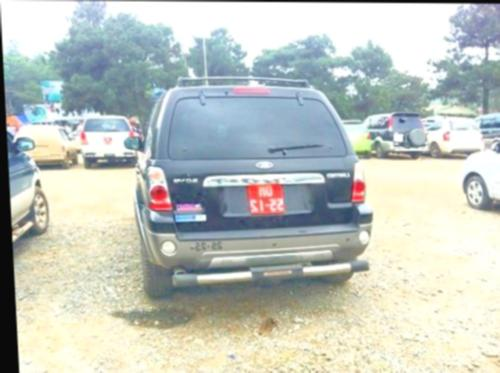License_Plate: (241, 183, 287, 218)
